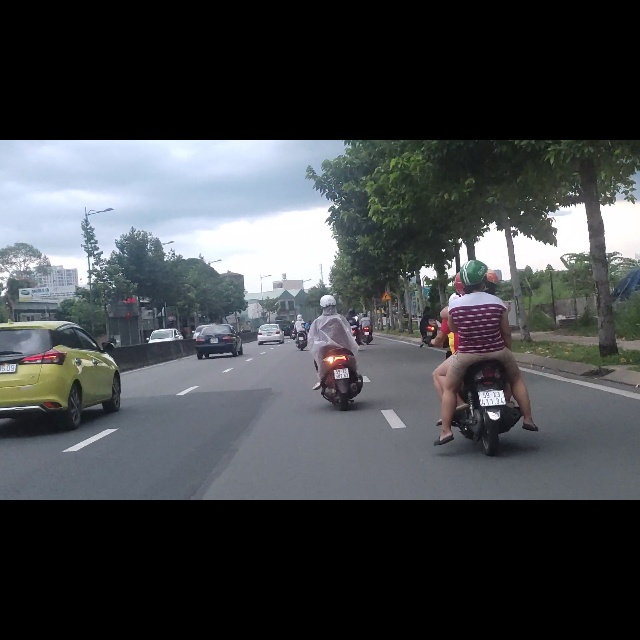bien_nguy_hiem: (381, 267, 391, 286)
